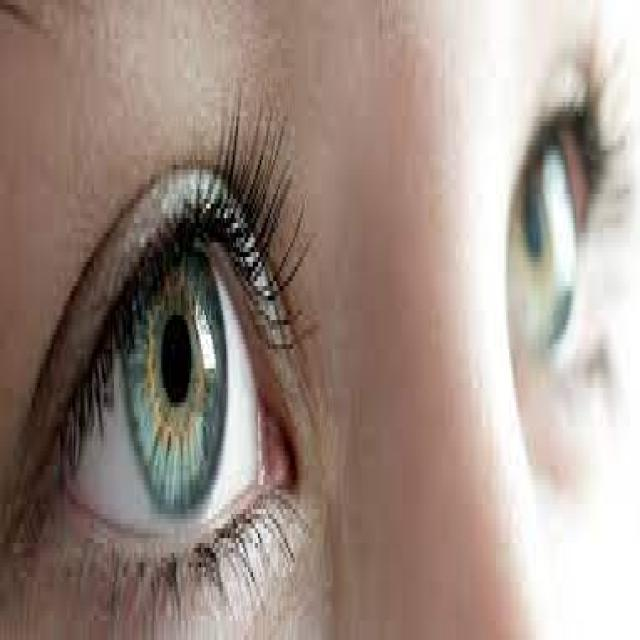Eyes-iris: (115, 216, 235, 521)
